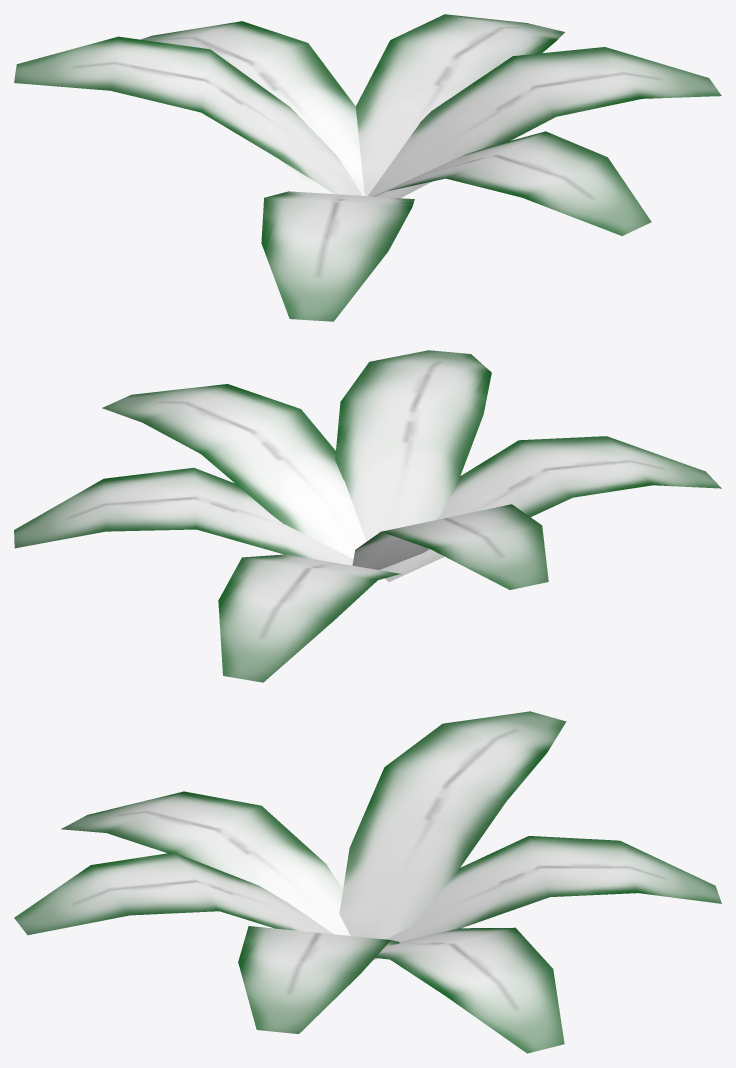
Rendered from SnowPlant.fbx.
3 views of the same model, one above another, from view 1: azimuth 30°, elevation 25°; view 2: azimuth 150°, elevation 25°; view 3: azimuth 270°, elevation 25° (orthographic). The views are drawn at different scales.
Visible parts, largest first — view 1: Plane.005; view 2: Plane.005; view 3: Plane.005.
Boxes of the visible parts, bbox=[...] form: Plane.005: bbox=[14, 14, 721, 321]; Plane.005: bbox=[14, 350, 721, 682]; Plane.005: bbox=[14, 711, 721, 1053].
Bounding box in the file's own units: 116 × 24.79 × 126.
